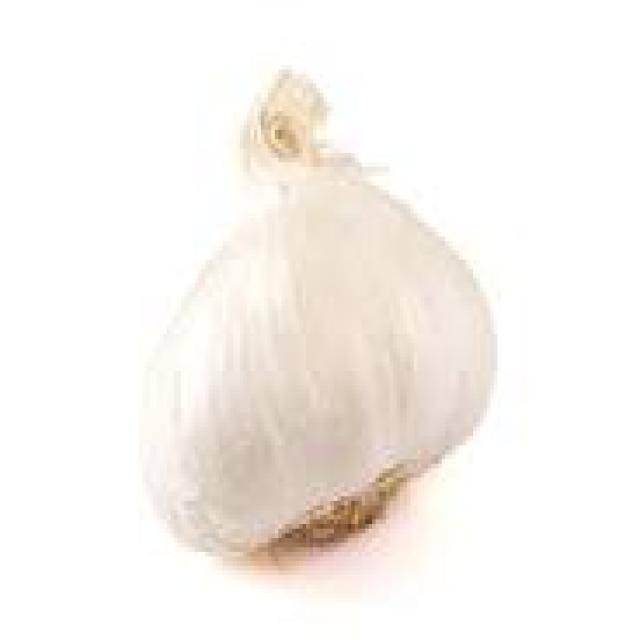garlic: (139, 56, 511, 561)
